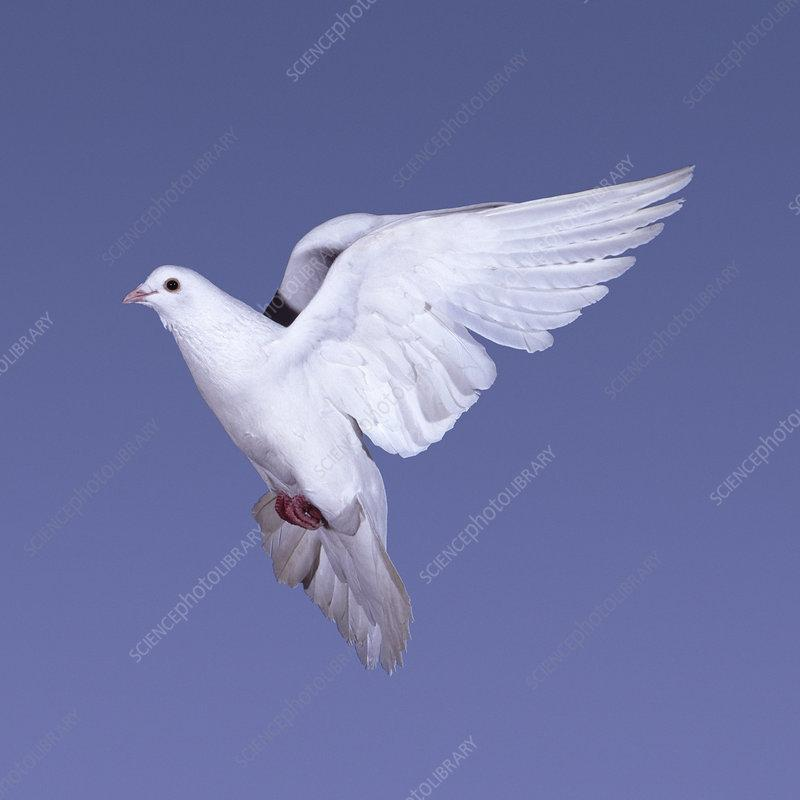Flying Rat: (109, 191, 703, 667)
